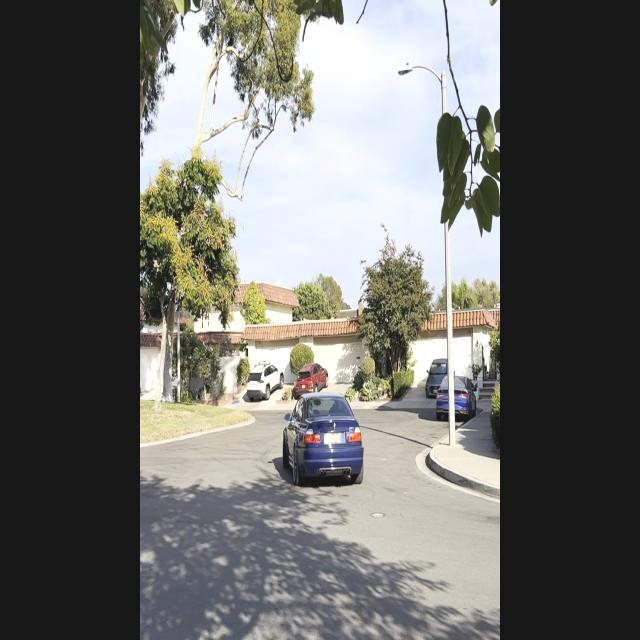Carbeetle: (270, 388, 386, 500)
Civilian: (438, 375, 476, 422), (247, 362, 284, 401), (293, 361, 329, 398), (425, 359, 447, 398)
